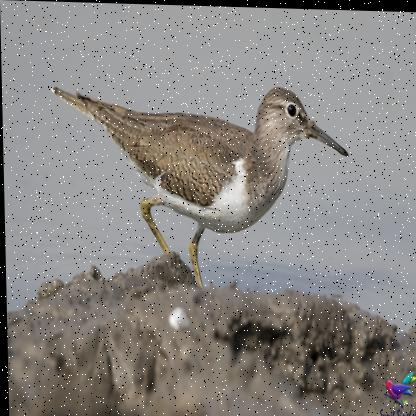Burung: (50, 76, 353, 285)
